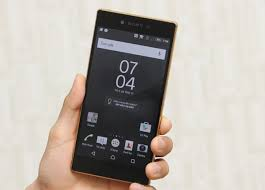sony: (66, 6, 179, 186)
